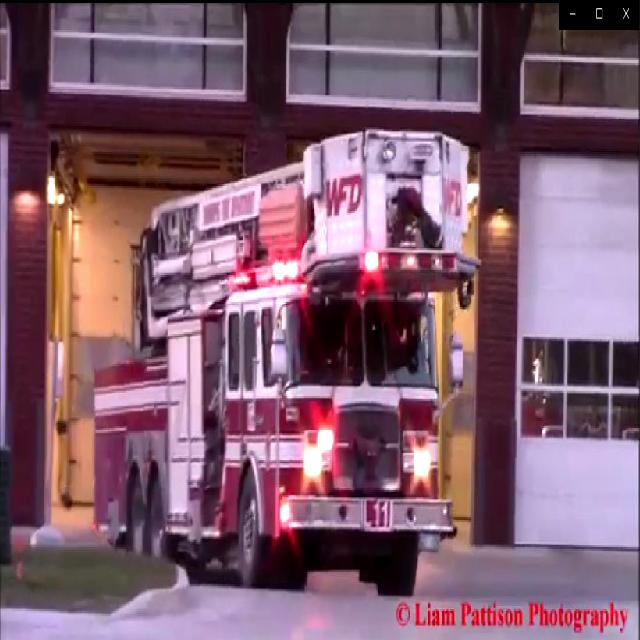emergency: (82, 122, 488, 606)
